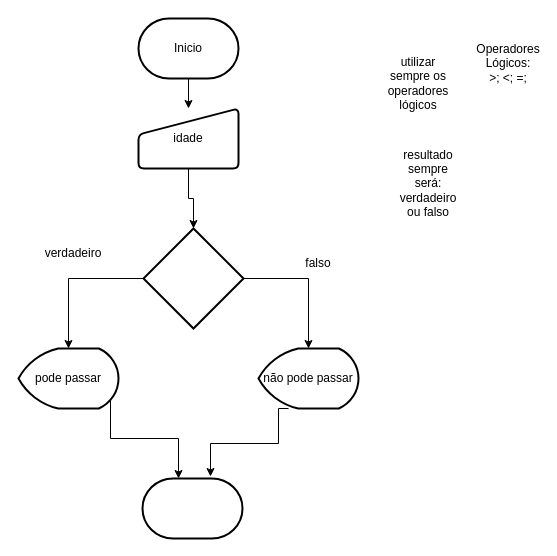
Image size: 557x556. Some labels were removed from this diagram. The shapes that lost their labels are listed below. From the top down, each one's centre as x and y in pixels, then its label:
At [193,278]: "idade>=18".
At [192,508]: "fim".
